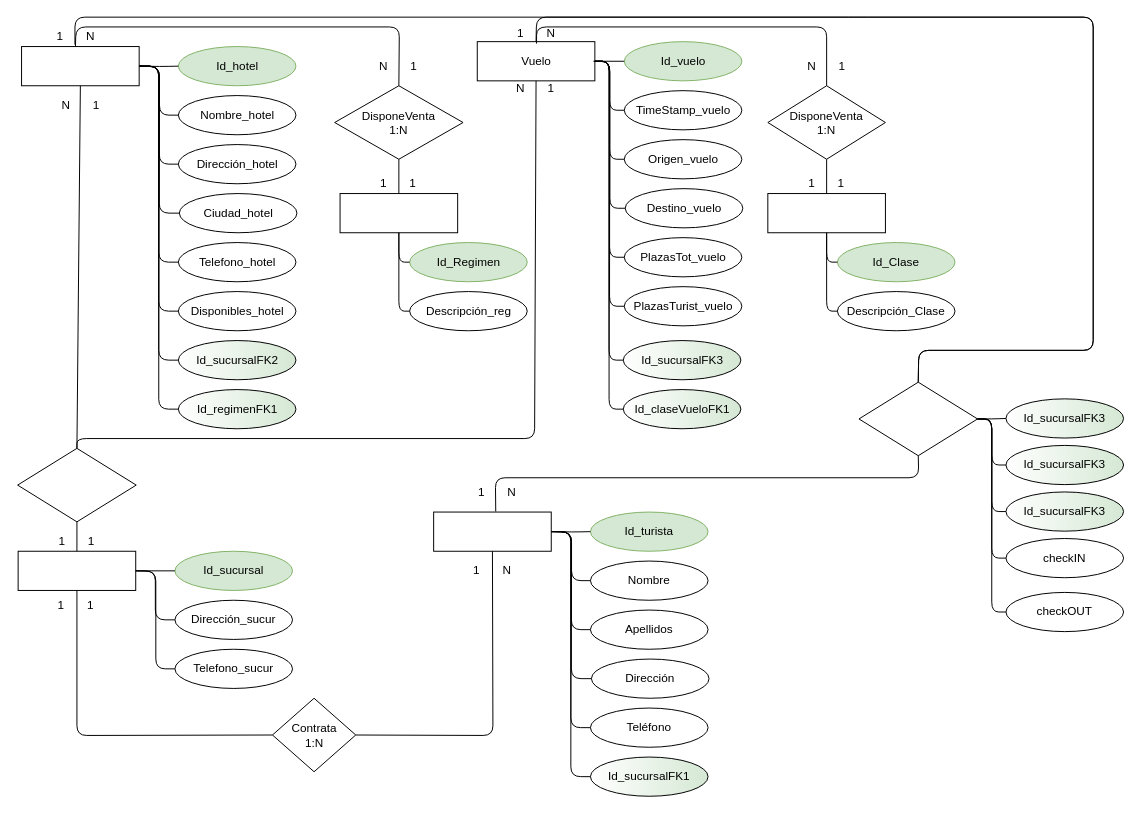
Image size: 1141x813. Some labels were removed from this diagram. The shapes that lost their labels are listed below. From the top down, each one's centre as x and y in pixels, then its label:
At point 80,66: "Hotel".
At point 398,213: "Régimen_hotel".
At point 826,213: "Clase_vuelo".
At point 918,418: "Contrata N:M".
At point 76,484: "Tiene Acuerdo 1:N".
At point 492,531: "Turista".
At point 76,570: "Sucursal".
